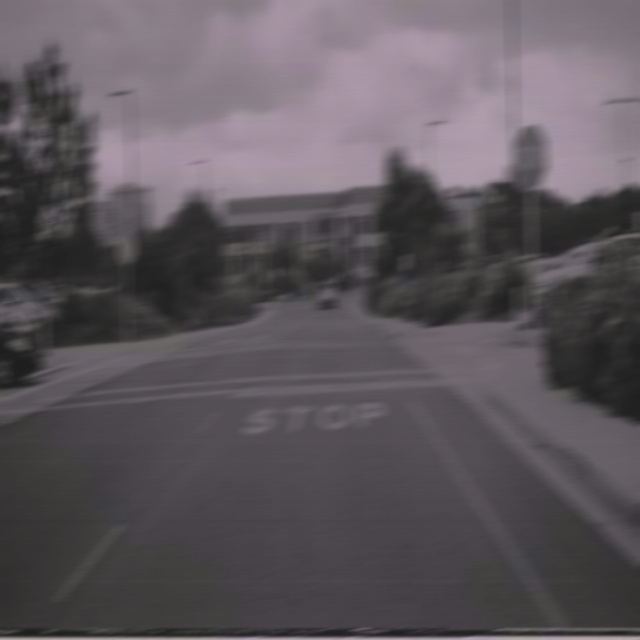stop: (512, 122, 548, 190)
